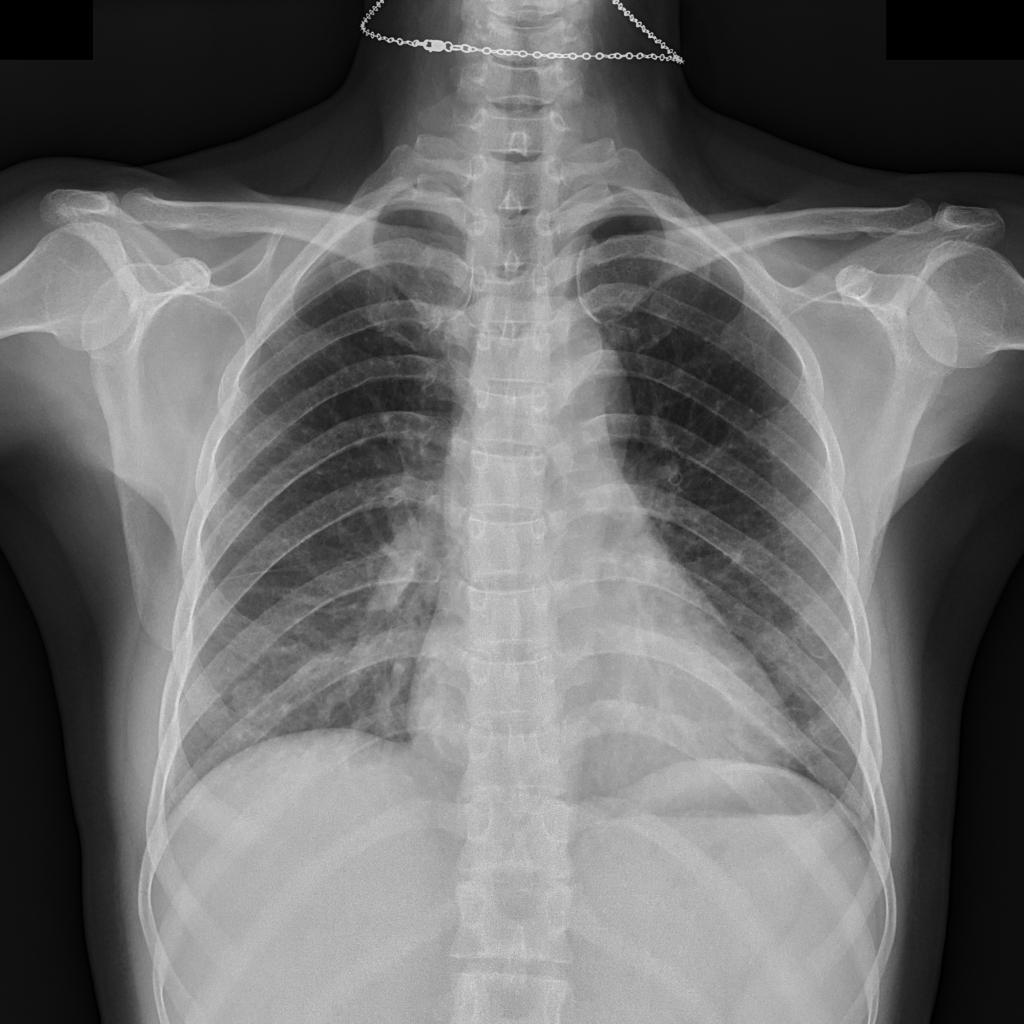Nodule: (231, 684, 273, 720)
